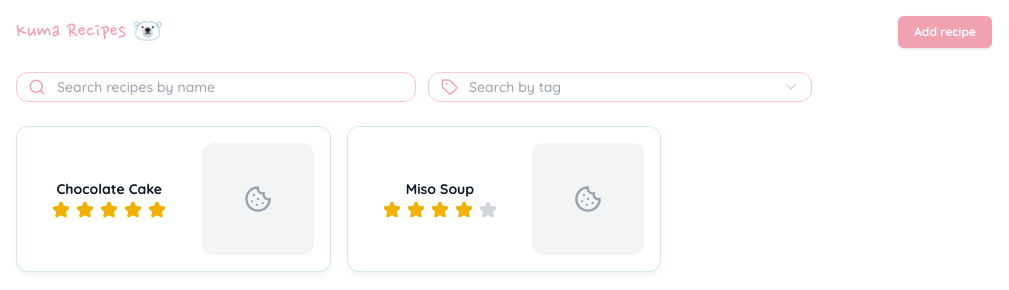
Test: App recipe search › selects multiple tag filters
The image size is (1009, 290).
Click the field named "search recipes by tag". click: (608, 87)
box: [469,77,747,97]
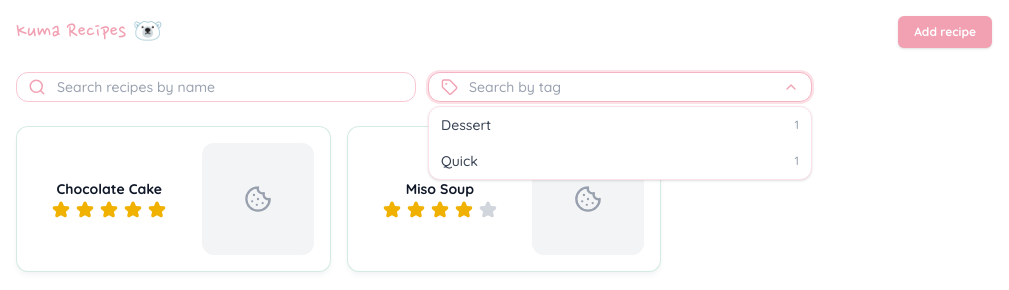
Click the button "Dessert 1". click: (466, 125)
box: [429,107,811,143]
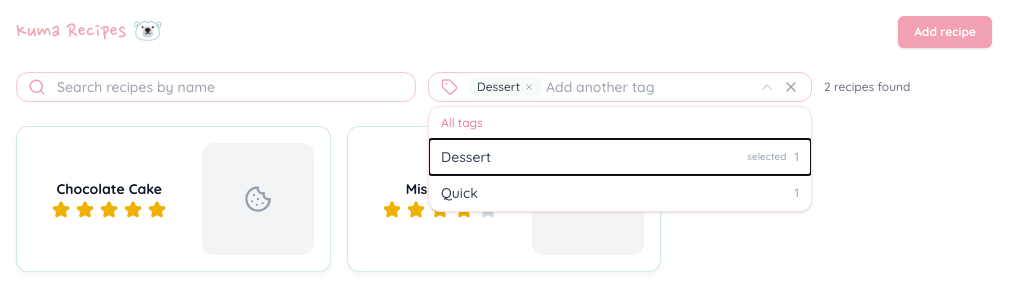
Click the button "Quick 1". click: (459, 193)
box: [429,175,811,211]
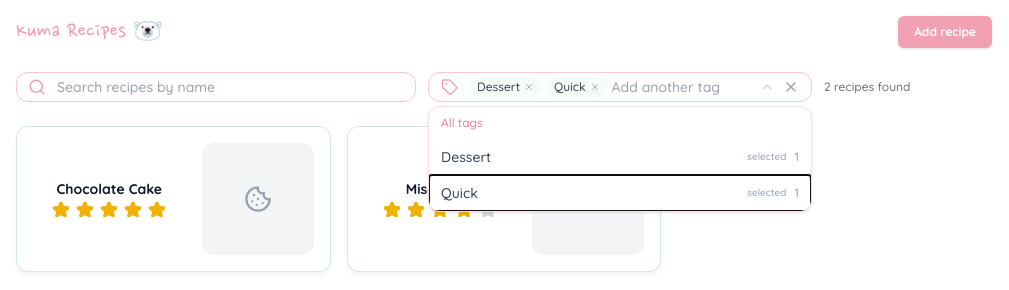
Expected: the text "selected" is shown 2 times, [747,150,786,164]; [747,186,786,200]
